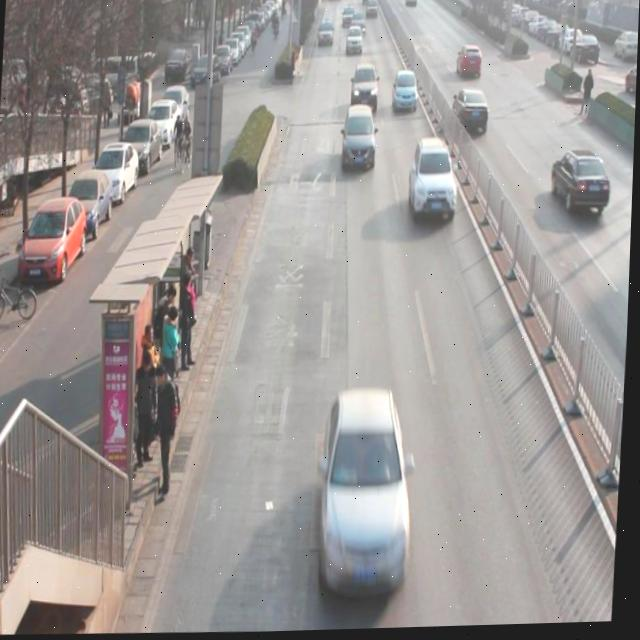car: (318, 390, 421, 606), (551, 149, 613, 226), (409, 141, 461, 229), (342, 111, 379, 173), (451, 91, 493, 139), (391, 72, 422, 119), (352, 69, 380, 110), (455, 49, 483, 82), (317, 21, 336, 54), (344, 28, 364, 57)
